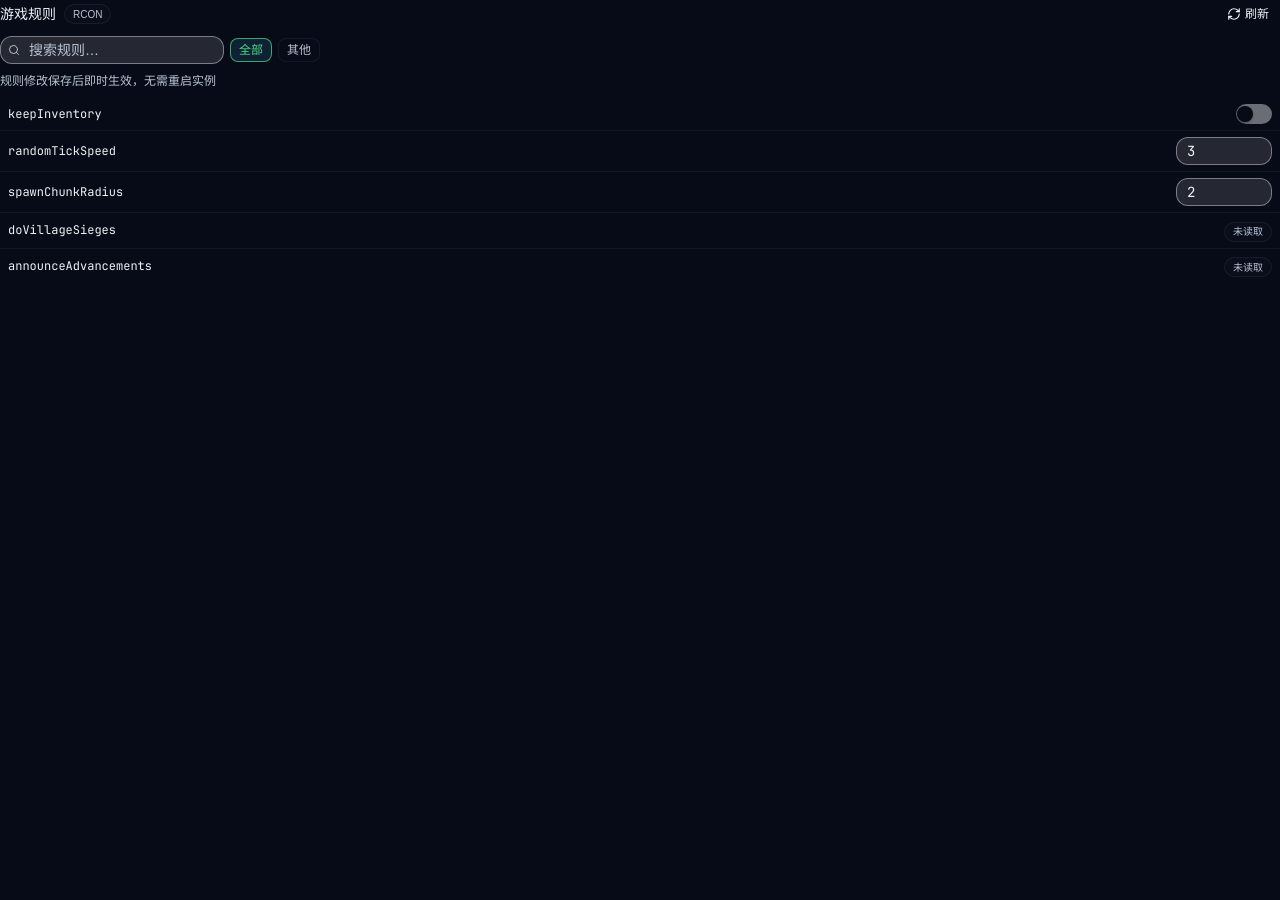
Test: GamerulePanel 三态渲染 › missing：灰标「未读取」+ 原因走可聚焦浮层 + 不渲染任何值控件
Check: the text "doVillageSieges" is shown, box [8,222,116,238]
Note: 解释必须键盘与触屏都拿得到（裸 title 两者都取不到）
Click the button "未读取" in the row of "doVillageSieges".
click(1248, 230)  # box [1224,219,1272,242]
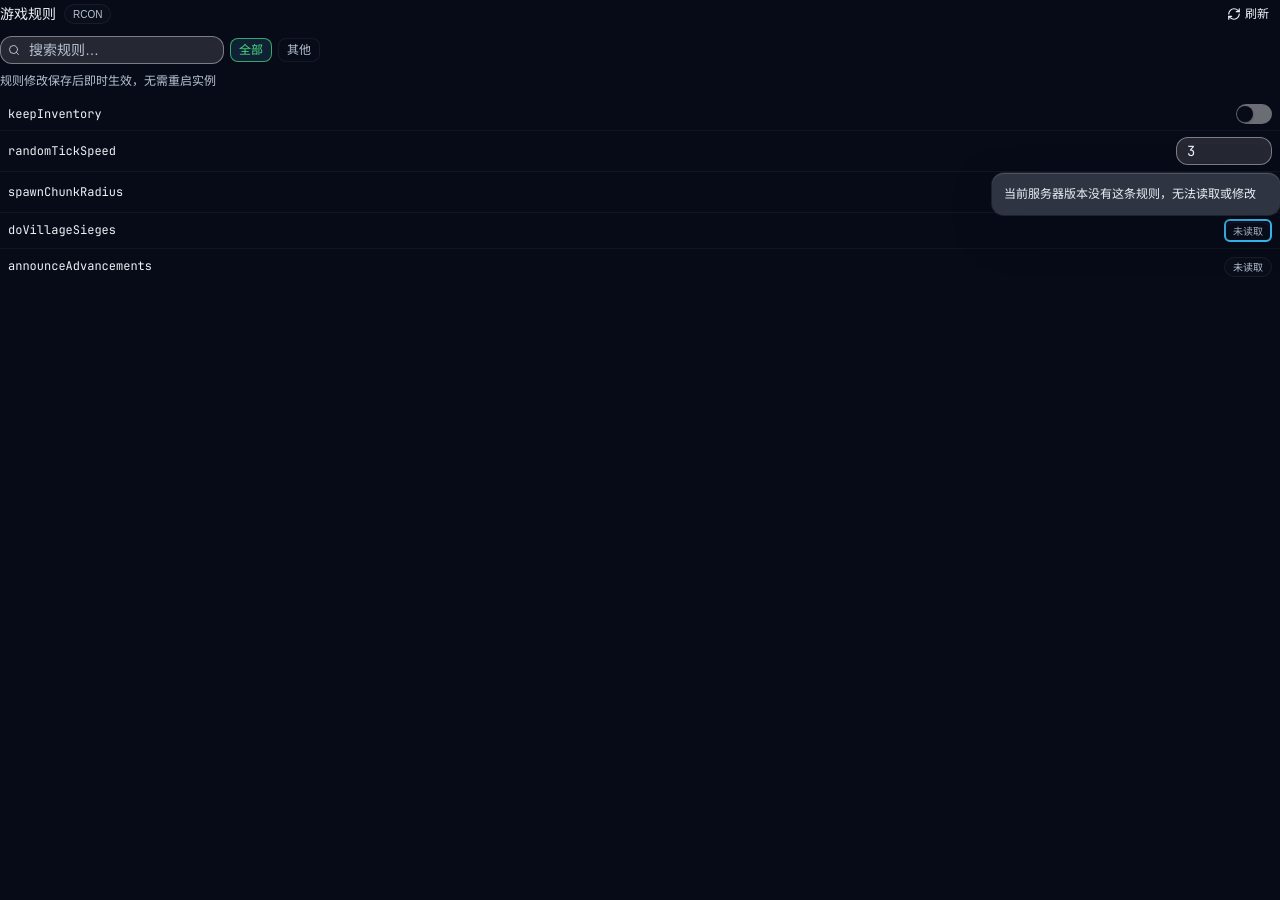
Check: the dialog named "doVillageSieges 未读取原因" reads "当前服务器版本没有这条规则，无法读取或修改", box [1004,187,1256,201]
